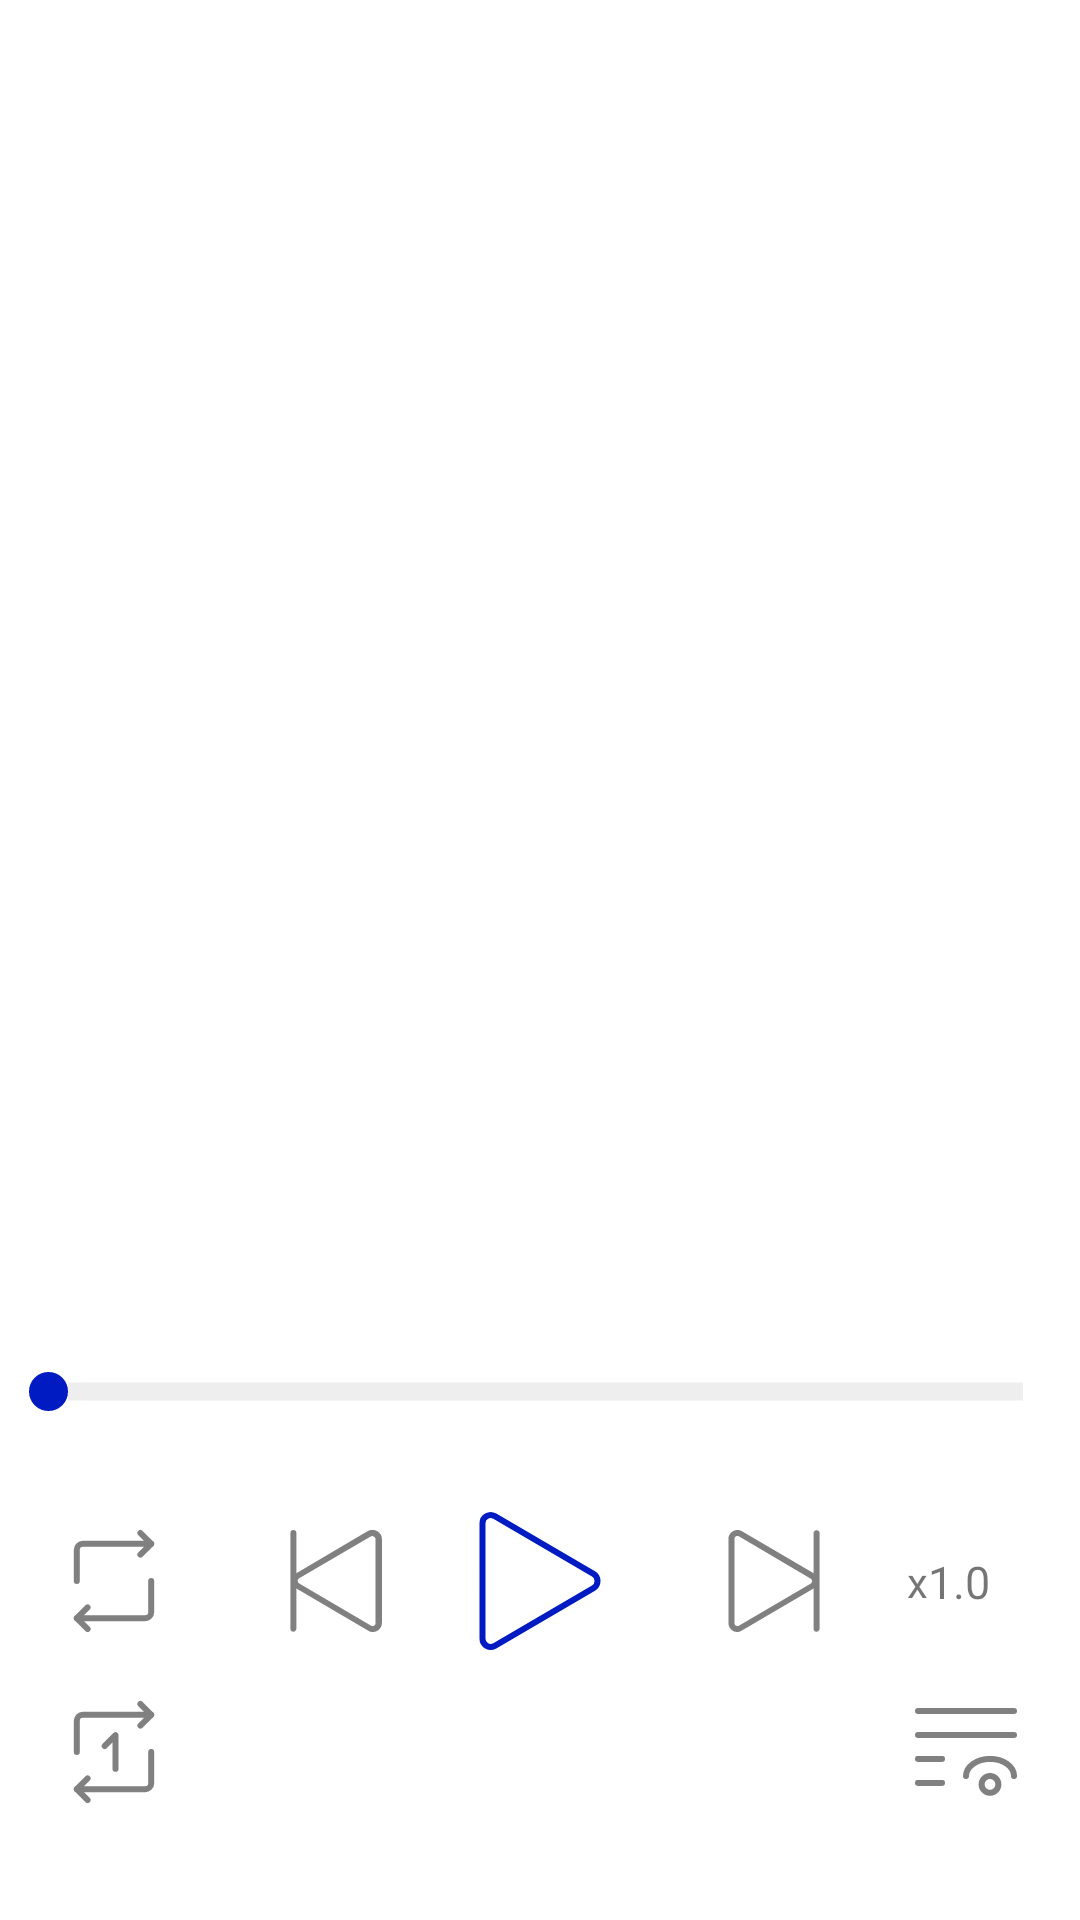

Named icons in this screenshot (1080px×1920px) and their centers, (x,y):
backs: (336,1581)
nexts: (774,1581)
repeat: (114,1581)
repeatone: (114,1752)
scripton: (966,1752)
